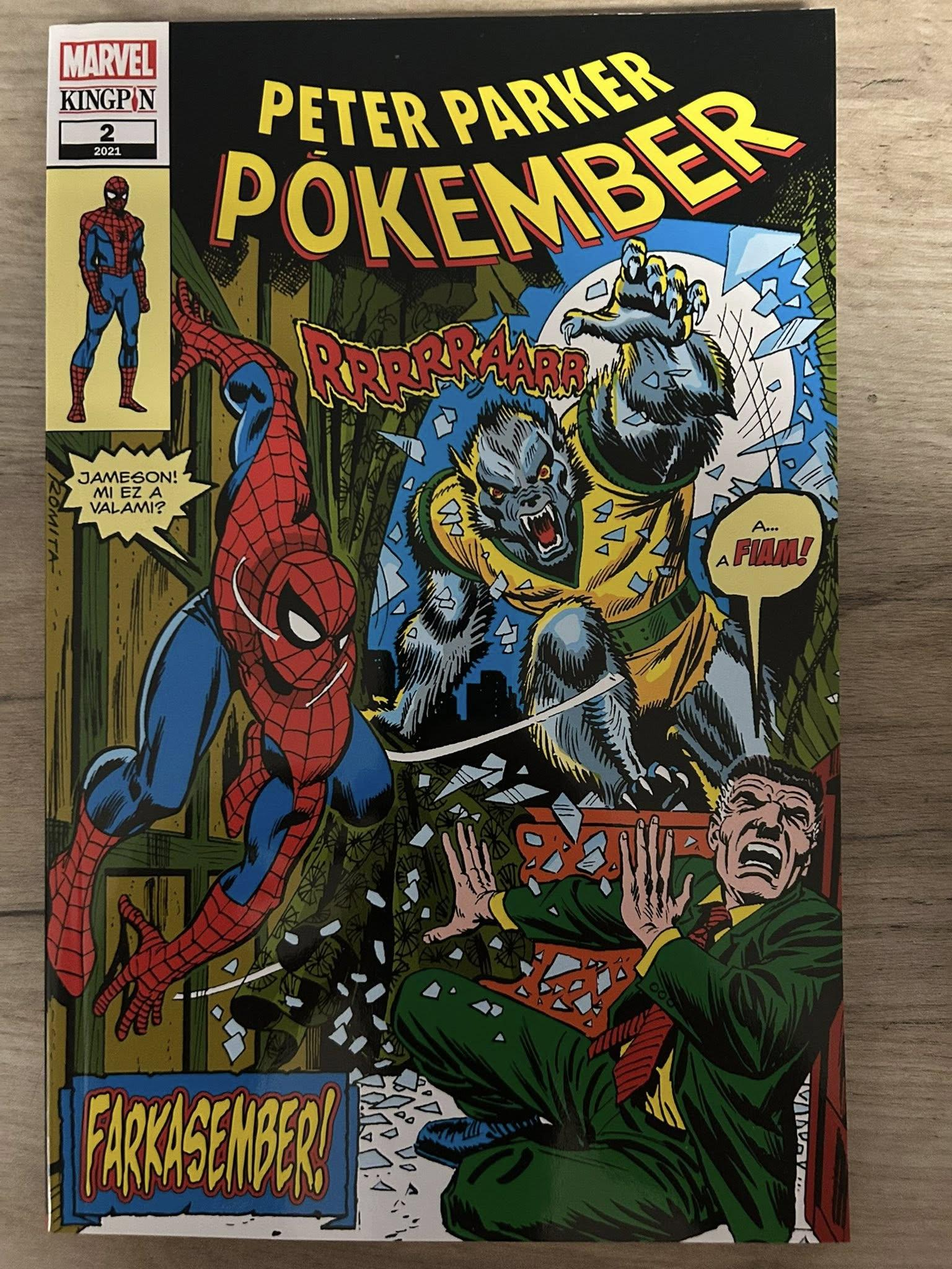comic: (40, 10, 847, 1247)
